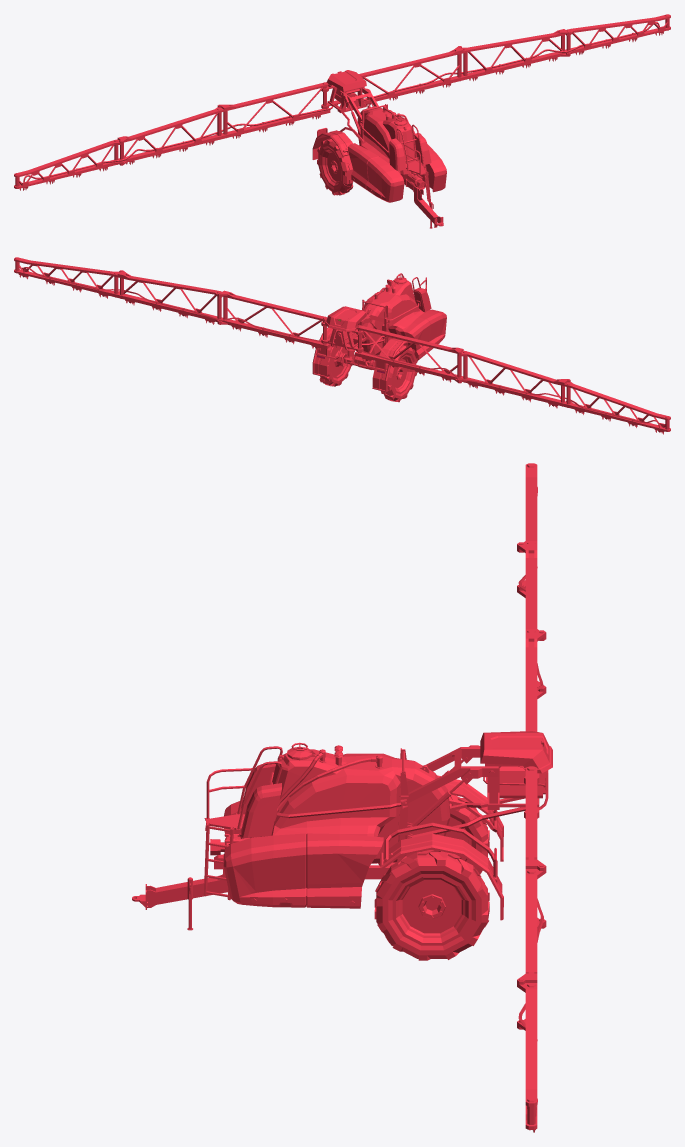
Rendered from SM_Sprayer.fbx.
3 renders of one model, top to bottom at view 1: azimuth 30°, elevation 25°; view 2: azimuth 150°, elevation 25°; view 3: azimuth 270°, elevation 25°, orthographic. The views are drawn at different scales.
Parts seen in each view (by area): view 1: sprayer-base, sprayer-wing-r-b, sprayer-wing-l-b, sprayer-wing-r-a, sprayer-wing-l-a, sprayer-wing-r-c, sprayer-wing-l-c, sprayer-wheel-r; view 2: sprayer-base, sprayer-wing-r-b, sprayer-wing-l-a, sprayer-wing-l-b, sprayer-wing-r-a, sprayer-wing-r-c, sprayer-wing-l-c, sprayer-wheel-r, sprayer-wheel-l; view 3: sprayer-base, sprayer-wheel-l, sprayer-wing-l-c, sprayer-wing-l-b, sprayer-wing-l-a, sprayer-wing-r-b, sprayer-wing-r-a, sprayer-wheel-r, sprayer-wing-r-c.
Part boxes in pixels (bbox=[...]): sprayer-base: bbox=[312, 70, 446, 227]; sprayer-wing-r-b: bbox=[117, 104, 224, 165]; sprayer-wing-l-b: bbox=[458, 29, 570, 81]; sprayer-wing-r-a: bbox=[217, 82, 330, 138]; sprayer-wing-l-a: bbox=[358, 46, 463, 106]; sprayer-wing-r-c: bbox=[14, 139, 123, 190]; sprayer-wing-l-c: bbox=[565, 14, 670, 54]; sprayer-wheel-r: bbox=[317, 138, 353, 195]; sprayer-base: bbox=[312, 273, 446, 391]; sprayer-wing-r-b: bbox=[457, 350, 570, 408]; sprayer-wing-l-a: bbox=[217, 290, 330, 350]; sprayer-wing-l-b: bbox=[117, 270, 223, 324]; sprayer-wing-r-a: bbox=[354, 325, 463, 383]; sprayer-wing-r-c: bbox=[564, 379, 670, 434]; sprayer-wing-l-c: bbox=[14, 257, 122, 298]; sprayer-wheel-r: bbox=[381, 345, 417, 402]; sprayer-wheel-l: bbox=[319, 340, 354, 386]; sprayer-base: bbox=[132, 731, 552, 920]; sprayer-wheel-l: bbox=[374, 850, 489, 960]; sprayer-wing-l-c: bbox=[517, 978, 537, 1132]; sprayer-wing-l-b: bbox=[517, 864, 546, 1029]; sprayer-wing-l-a: bbox=[525, 766, 546, 928]; sprayer-wing-r-b: bbox=[517, 542, 546, 691]; sprayer-wing-r-a: bbox=[525, 630, 546, 731]; sprayer-wheel-r: bbox=[378, 795, 489, 874]; sprayer-wing-r-c: bbox=[517, 463, 537, 590].
Bounding box in the file's own units: 22.17 × 3.01 × 6.17.
